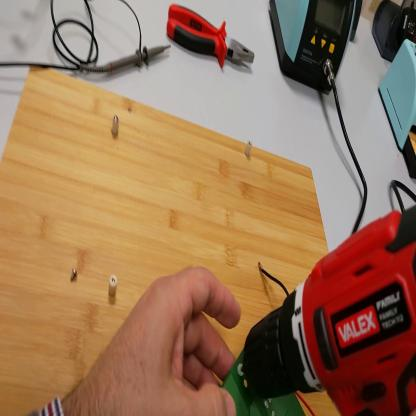electric screwdriver: (244, 204, 416, 415)
hand: (79, 267, 240, 415)
low voltage board: (225, 262, 316, 415)
oscilloscope probe tip: (97, 38, 183, 76)
pliers: (167, 3, 255, 72)
socket: (374, 1, 416, 64), (351, 3, 365, 43)
welder base: (379, 32, 416, 182)
welder station: (271, 2, 359, 93)
working area: (1, 64, 342, 416)
